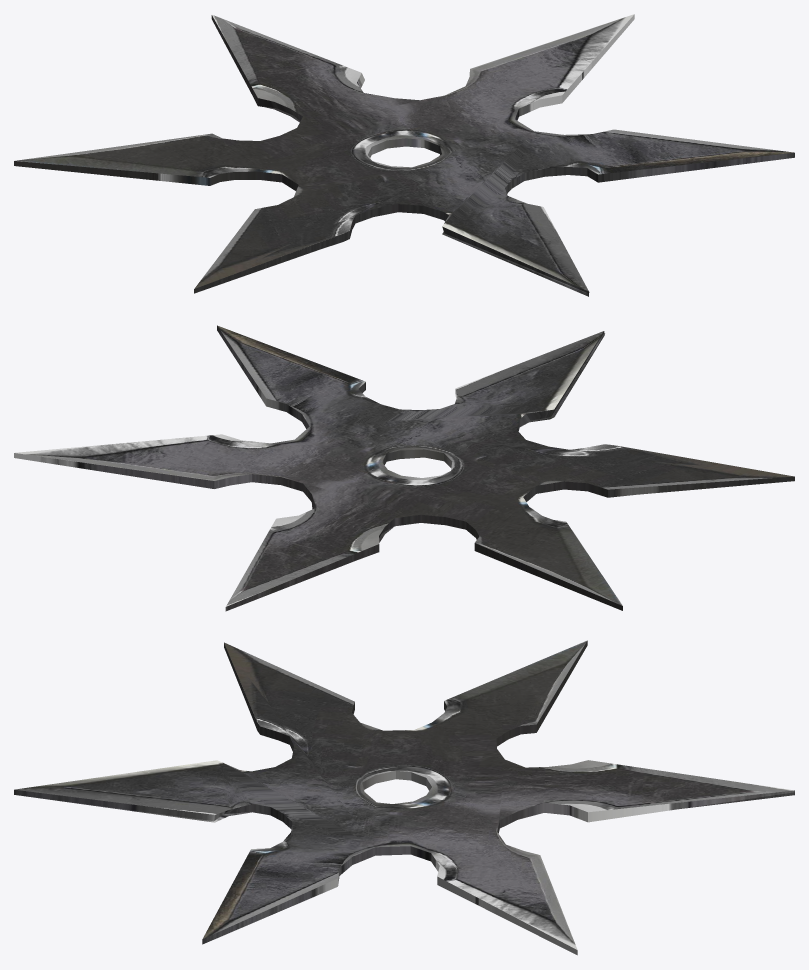
Rendered from MyNinjaStarrr.fbx.
The picture shows the model from 3 angles, top to bottom: view 1: azimuth 30°, elevation 25°; view 2: azimuth 150°, elevation 25°; view 3: azimuth 270°, elevation 25°; orthographic projection. The views are drawn at different scales.
Parts seen in each view (by area): view 1: Star; view 2: Star; view 3: Star.
Part boxes in pixels (left/top/right/bottom): Star: left=14, top=14, right=794, bottom=296; Star: left=14, top=325, right=794, bottom=611; Star: left=14, top=640, right=794, bottom=955.
Bounding box in the file's own units: 374 × 6.82 × 399.
